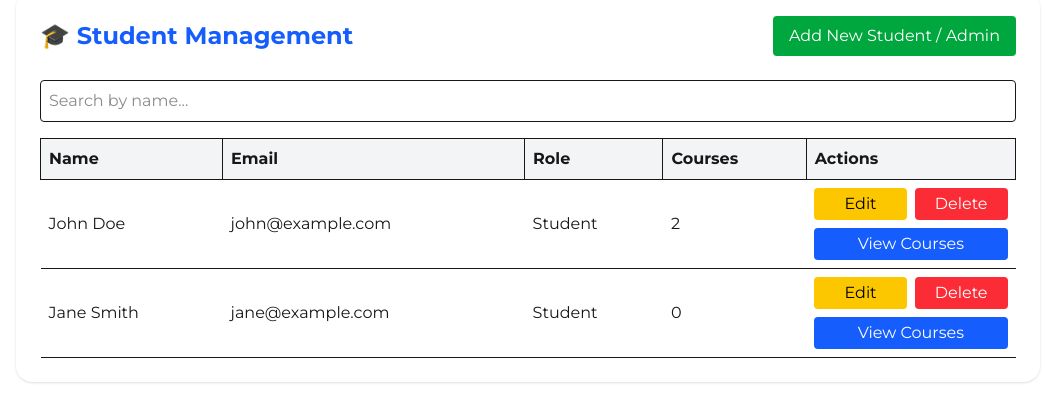
it: StudentManagement Page › shows no results when search doesn't match
Expected: the text "John Doe" is shown, [40,180,222,268]
Step 1. Type "Nonexistent" into the field with placeholder "Search by name..." → [528, 101], box [40,80,1016,122]
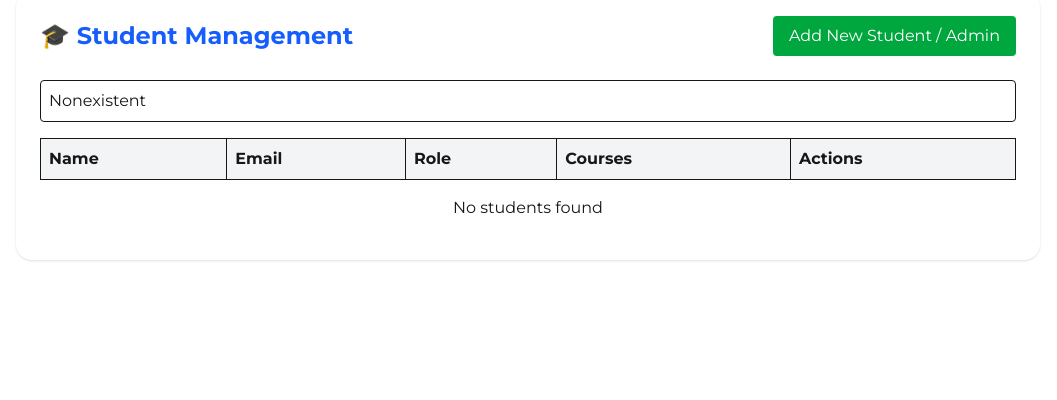
Result: the text "No students found" is shown at [40,180,1016,236]
